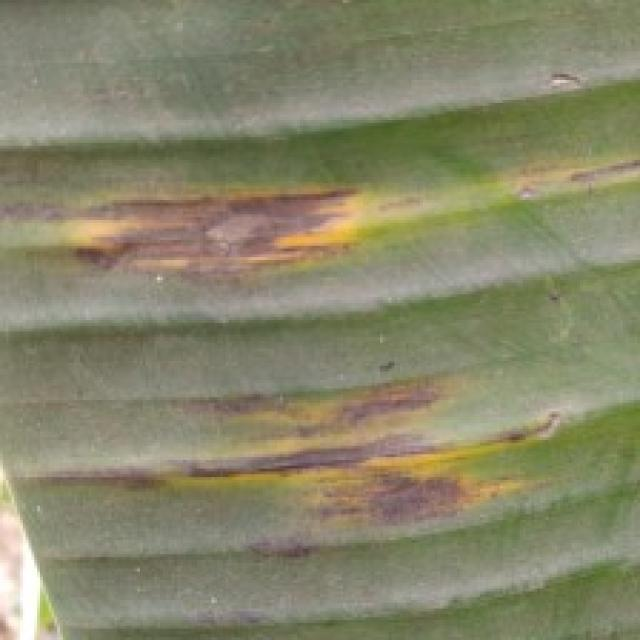Early_leaf_spot: (127, 352, 574, 558), (38, 156, 388, 302), (493, 104, 639, 228), (517, 62, 598, 108)
